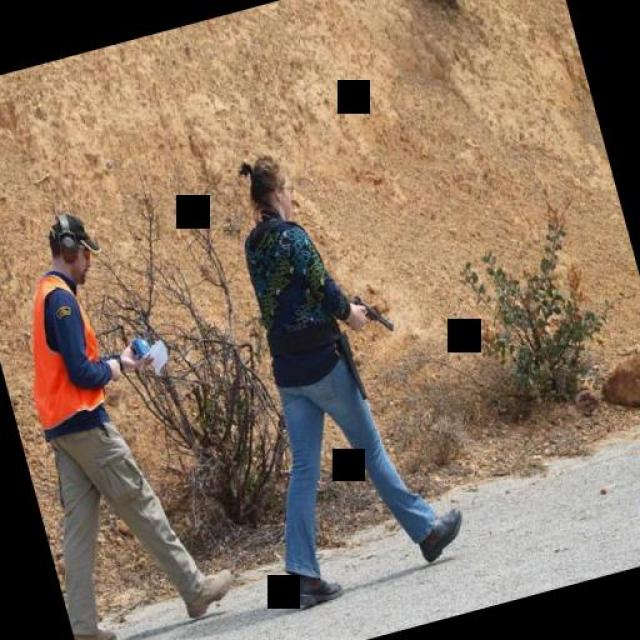gun: (345, 280, 396, 342)
